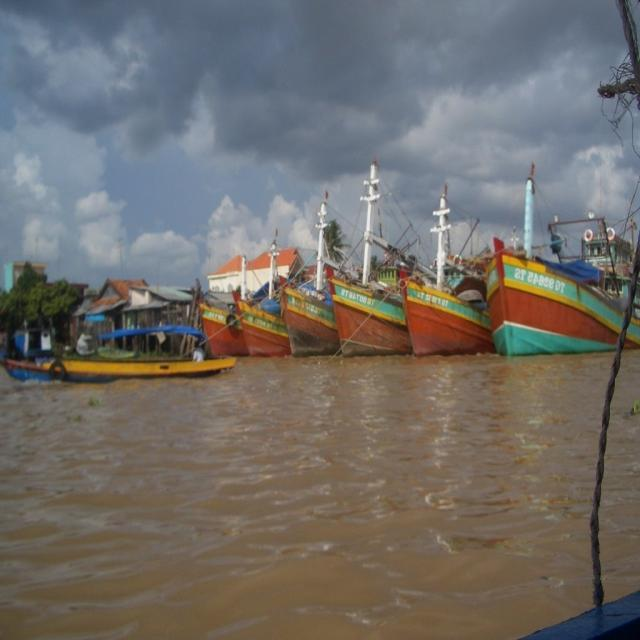boat: (56, 343, 241, 383)
